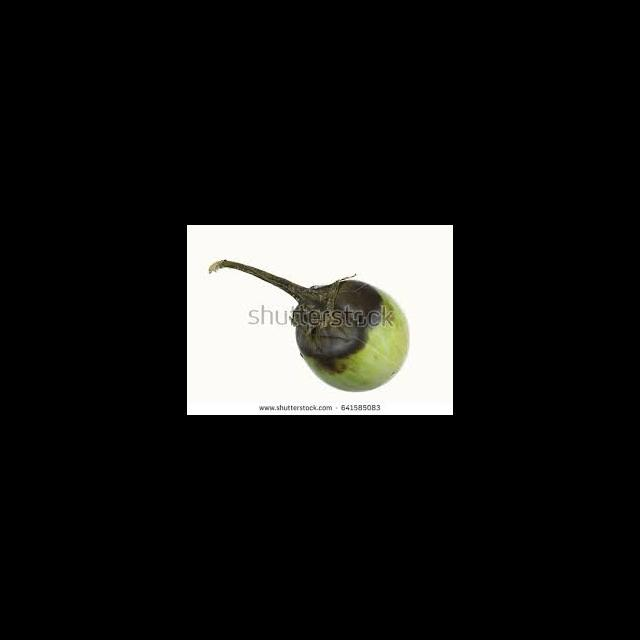food_waste: (204, 254, 428, 401)
